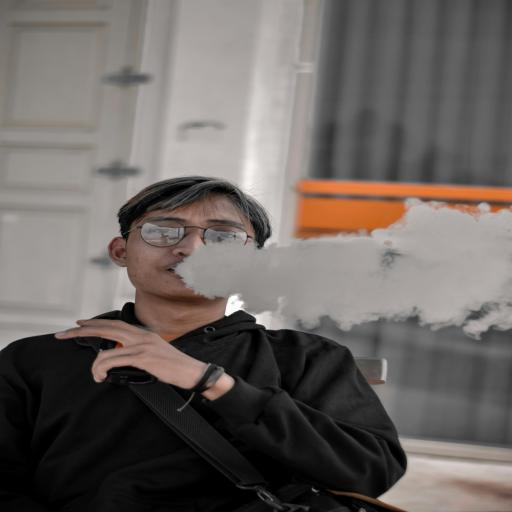asap rokok: (133, 194, 299, 332)
